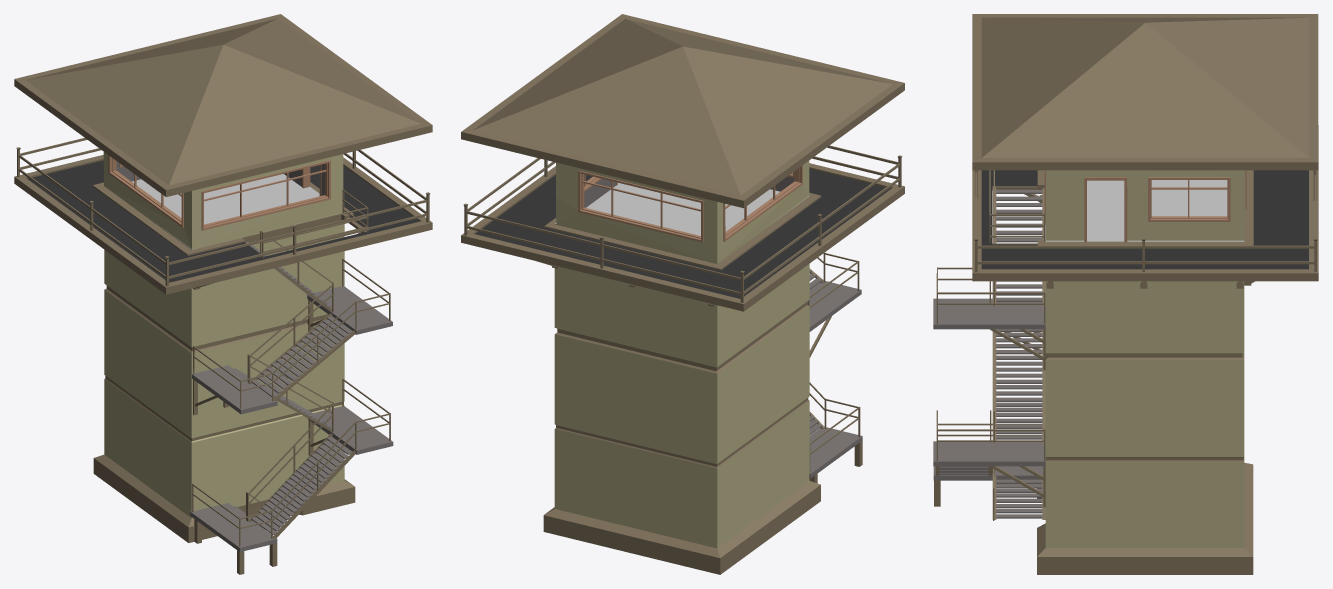
File: SM_Tower_01.FBX
3 views of the same model, side by side, from view 1: azimuth 30°, elevation 25°; view 2: azimuth 150°, elevation 25°; view 3: azimuth 270°, elevation 25° (orthographic). The views are drawn at different scales.
Parts seen in each view (by area): view 1: SM_Tower_01; view 2: SM_Tower_01; view 3: SM_Tower_01.
Boxes of the visible parts, x1,y1,x2,y2 form: SM_Tower_01: (14, 14, 432, 574); SM_Tower_01: (461, 14, 904, 574); SM_Tower_01: (933, 14, 1318, 574).
Bounding box in the file's own units: 1032 × 1133 × 1642.
